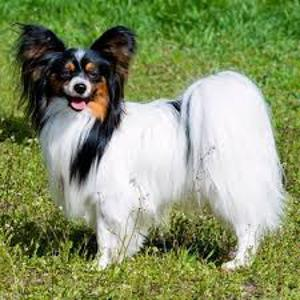yell: (14, 23, 289, 271)
